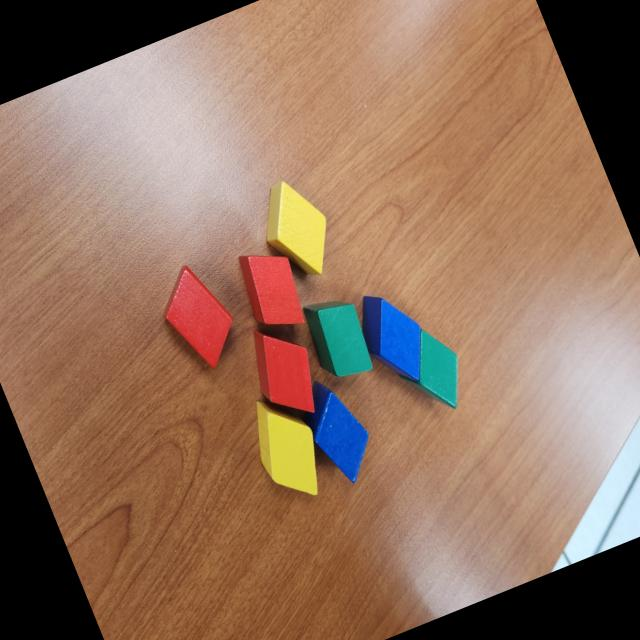blue: (294, 369, 384, 492), (348, 280, 438, 394)
green: (384, 318, 474, 422), (296, 287, 380, 388)
red: (147, 255, 247, 378), (236, 312, 330, 428), (232, 239, 314, 339)
yellow: (240, 384, 334, 508), (248, 170, 344, 286)
